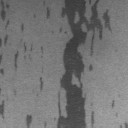red iron: (26, 0, 112, 128), (0, 0, 44, 74), (112, 100, 118, 117), (0, 100, 4, 118), (120, 122, 128, 128), (40, 77, 43, 91), (14, 89, 18, 96)
